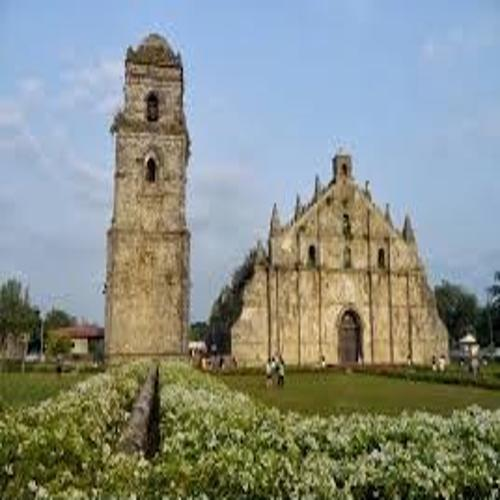Paoay Church: (100, 23, 455, 383)
